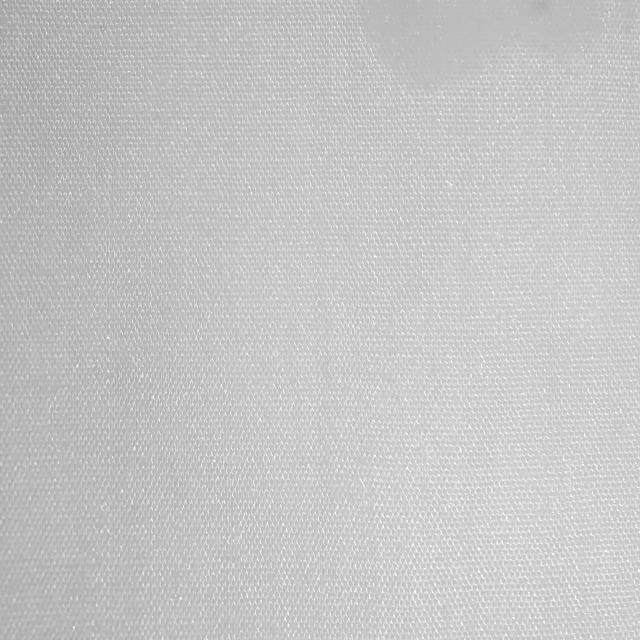Stain: (356, 0, 640, 88)
